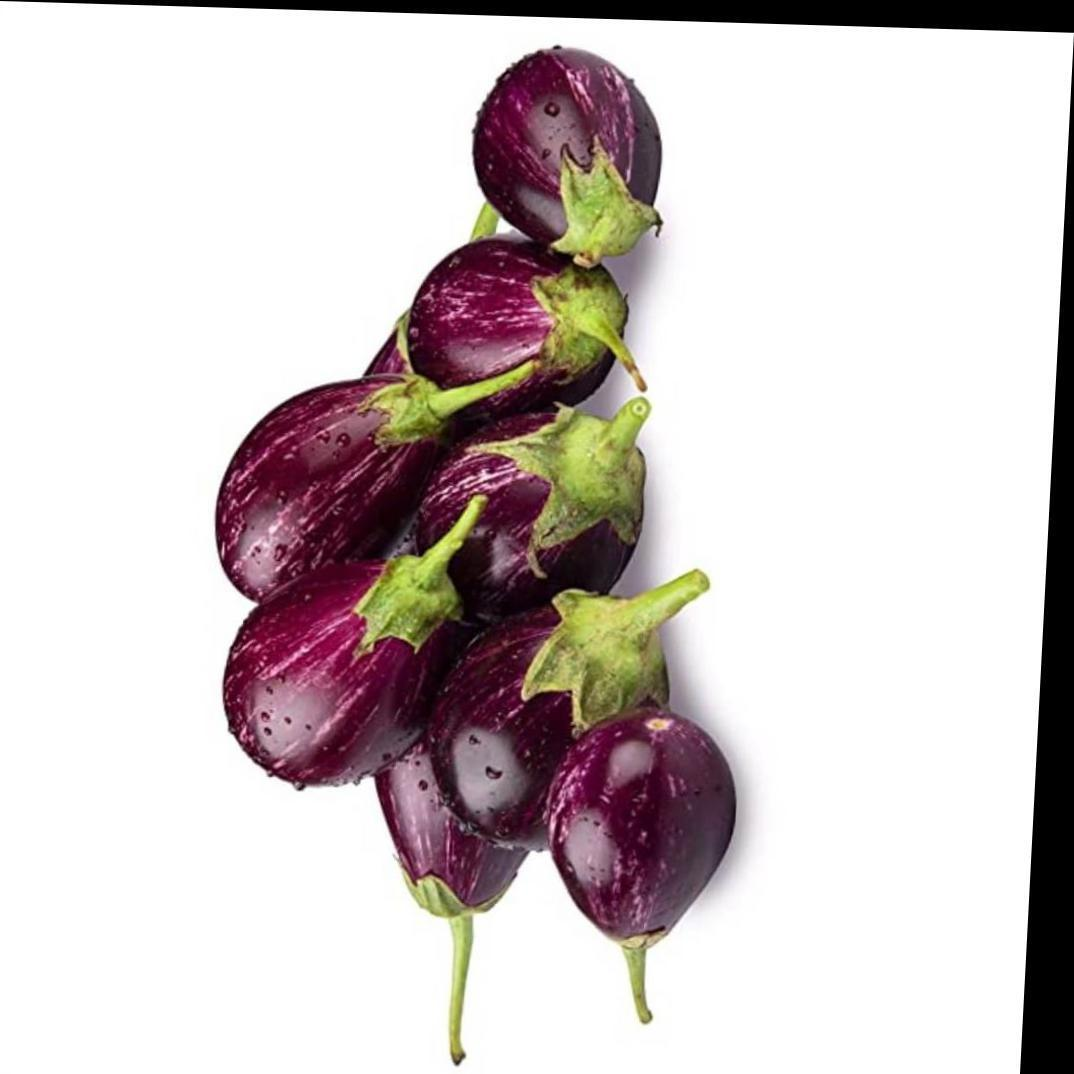eggplant: (182, 25, 816, 1008), (205, 520, 516, 848), (535, 692, 805, 1022)
